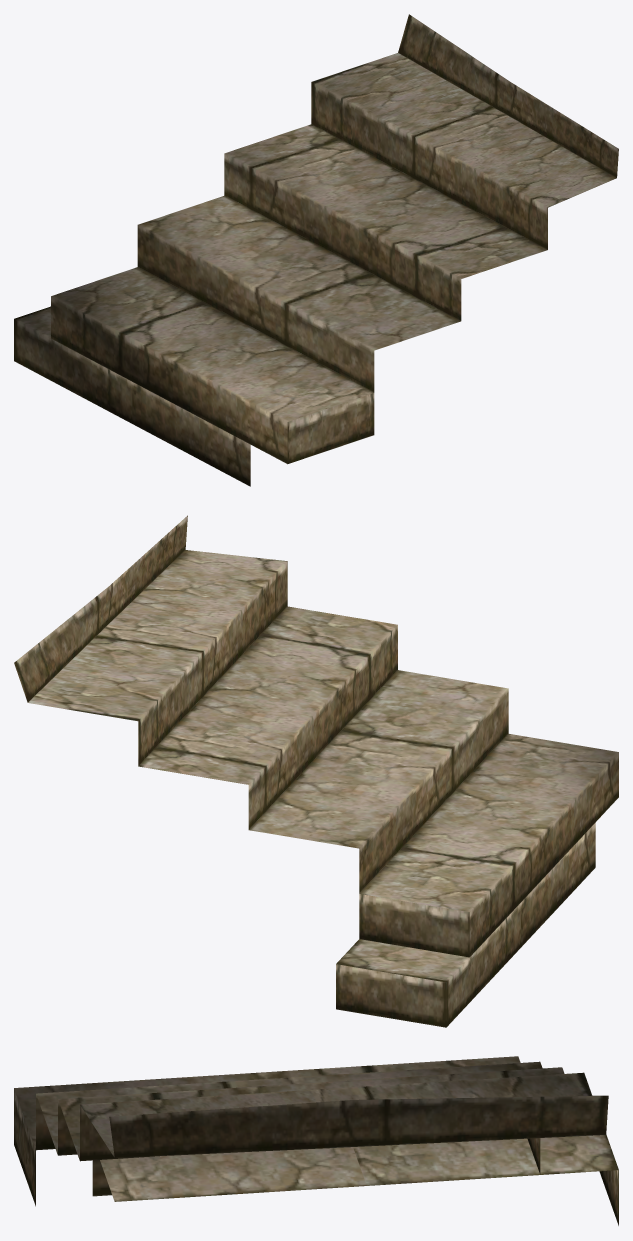
File: OVERHILL_A_01_OBJECT63.fbx
3 renders of one model, top to bottom at view 1: azimuth 30°, elevation 25°; view 2: azimuth 150°, elevation 25°; view 3: azimuth 270°, elevation 25°, orthographic. The views are drawn at different scales.
Parts seen in each view (by area): view 1: OVERHILL_A_01_OBJECT63; view 2: OVERHILL_A_01_OBJECT63; view 3: OVERHILL_A_01_OBJECT63.
Part boxes in pixels (bbox=[...]): OVERHILL_A_01_OBJECT63: bbox=[14, 14, 618, 486]; OVERHILL_A_01_OBJECT63: bbox=[14, 515, 618, 1027]; OVERHILL_A_01_OBJECT63: bbox=[14, 1056, 618, 1225].
Bounding box in the file's own units: 29720 × 16532 × 27434.
Materials: 1 (1 with a texture image).
